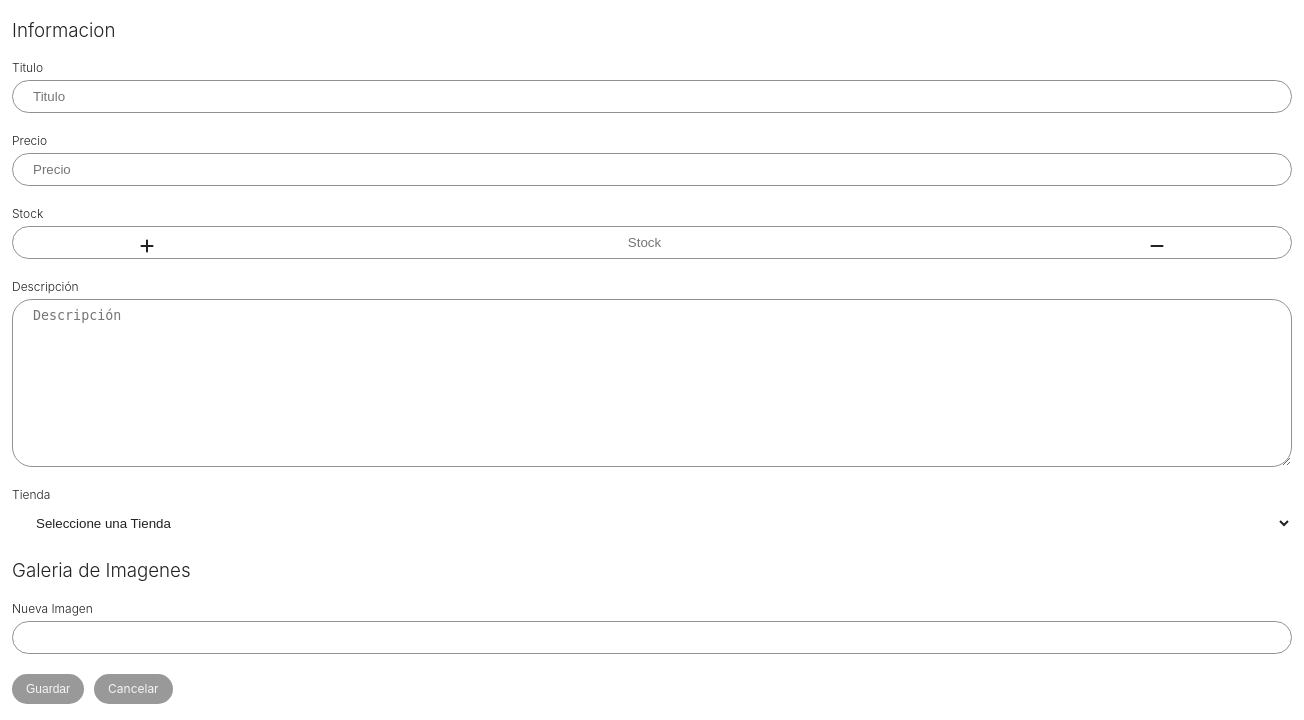
Formulario de productos › Precio
# asigno el evento al input
Click the number field labelled "Precio": x=652, y=170 x1=12 y1=153 x2=1292 y2=186
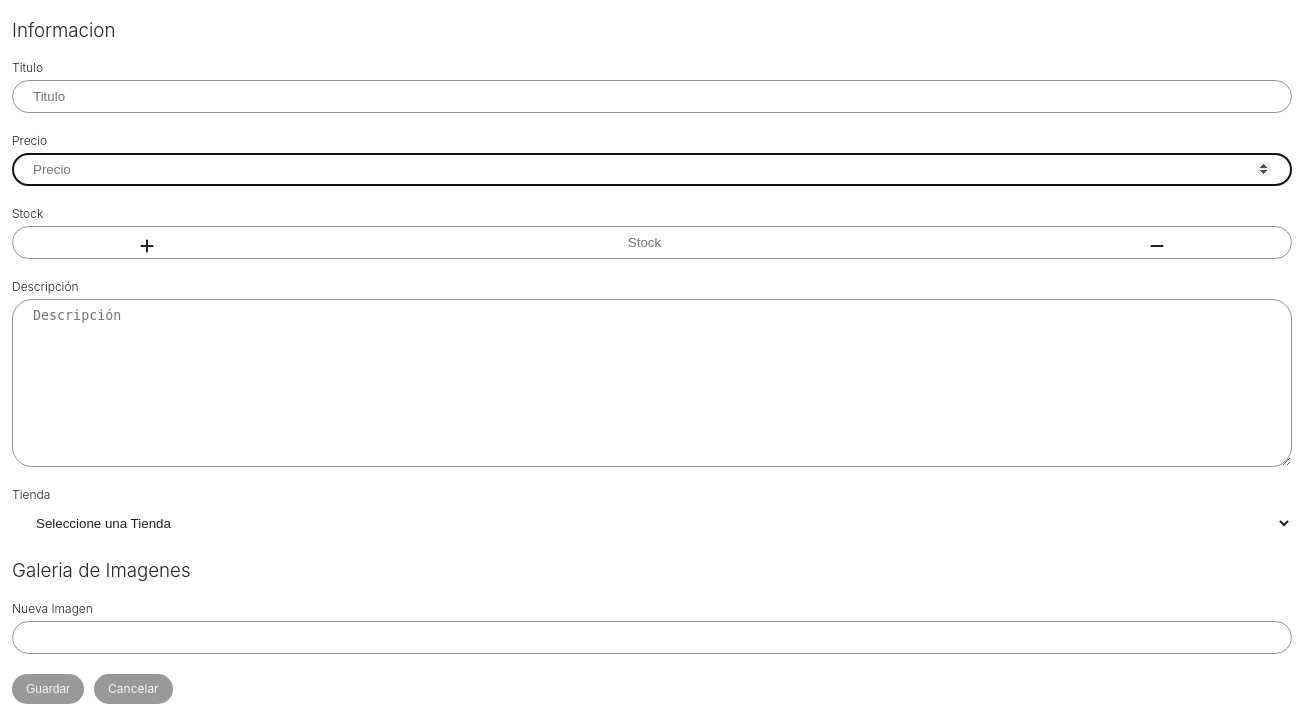
# Agrego contenido al input
Type keys "1234444"
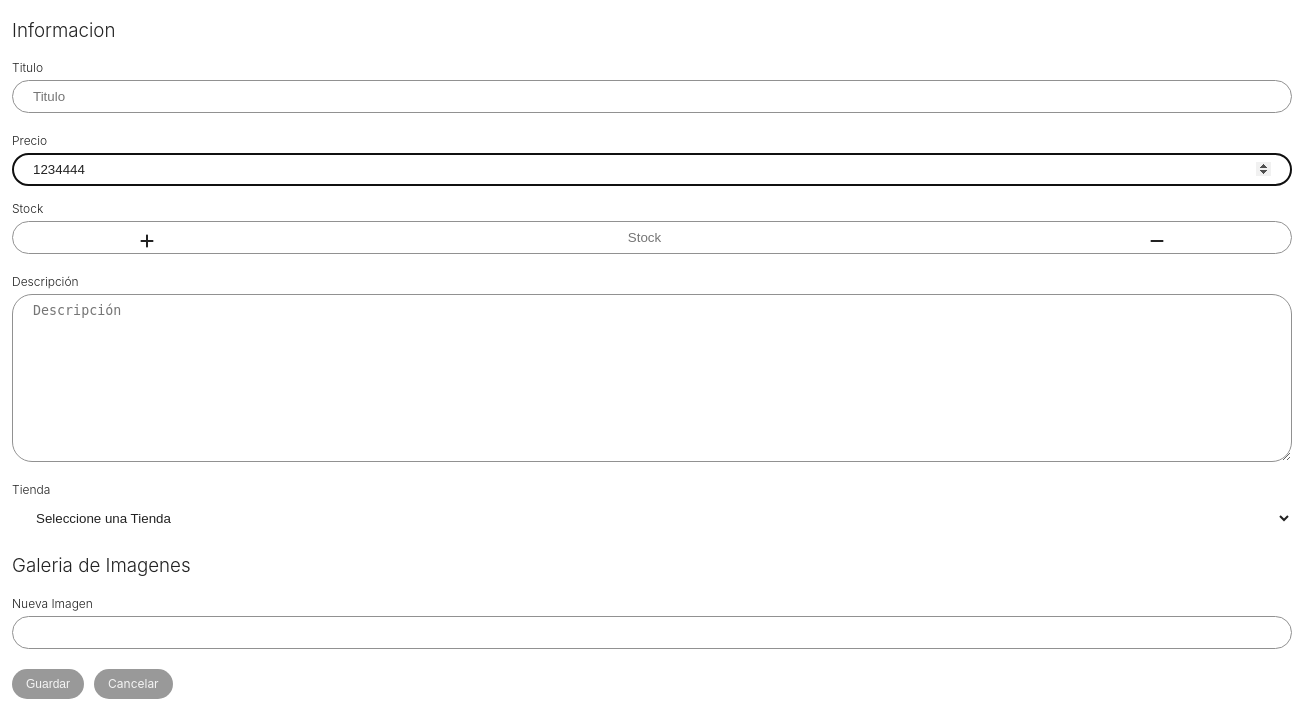
expect the number field showing "1234444" is shown: met, box x1=12 y1=153 x2=1292 y2=186
